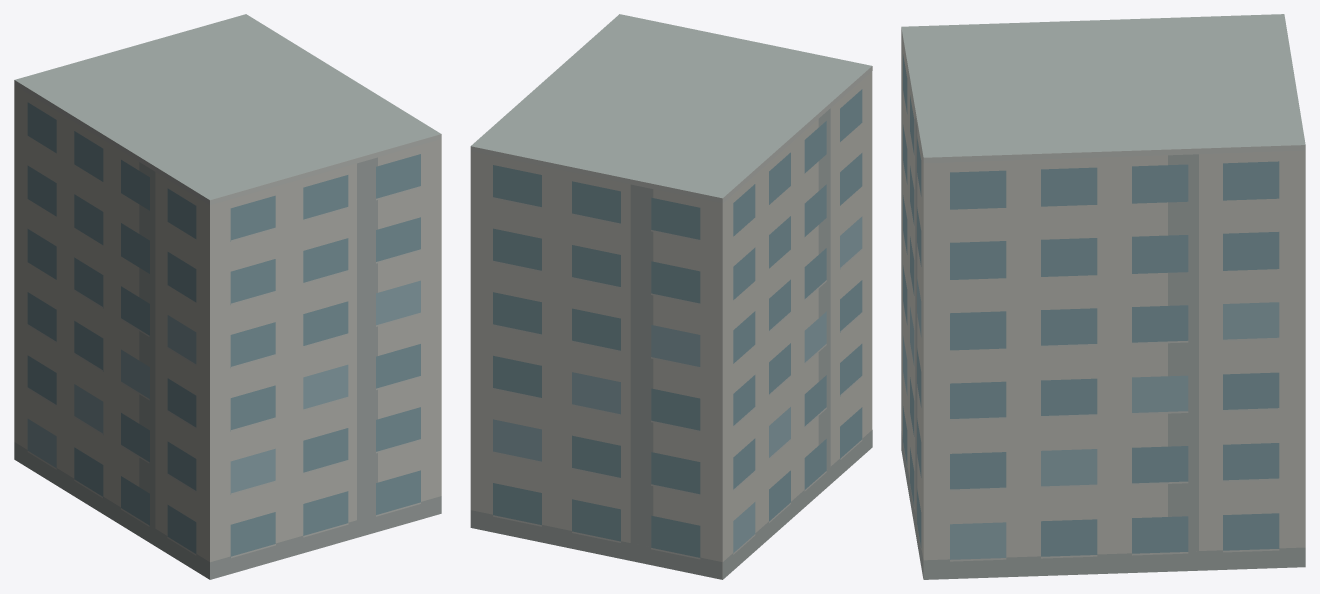
The model's file is survey-upis-32743843.glb.
3 views of the same model, side by side, from view 1: azimuth 30°, elevation 25°; view 2: azimuth 150°, elevation 25°; view 3: azimuth 270°, elevation 25° (orthographic). The views are drawn at different scales.
Parts seen in each view (by area): view 1: survey-upis-32743843.tmp; view 2: survey-upis-32743843.tmp; view 3: survey-upis-32743843.tmp.
Part boxes in pixels (x1=…): survey-upis-32743843.tmp: x1=14, y1=14, x2=441, y2=579; survey-upis-32743843.tmp: x1=470, y1=14, x2=872, y2=579; survey-upis-32743843.tmp: x1=901, y1=14, x2=1305, y2=579.
Size of the model in its own units: 13.08 by 17.9 by 15.55.
